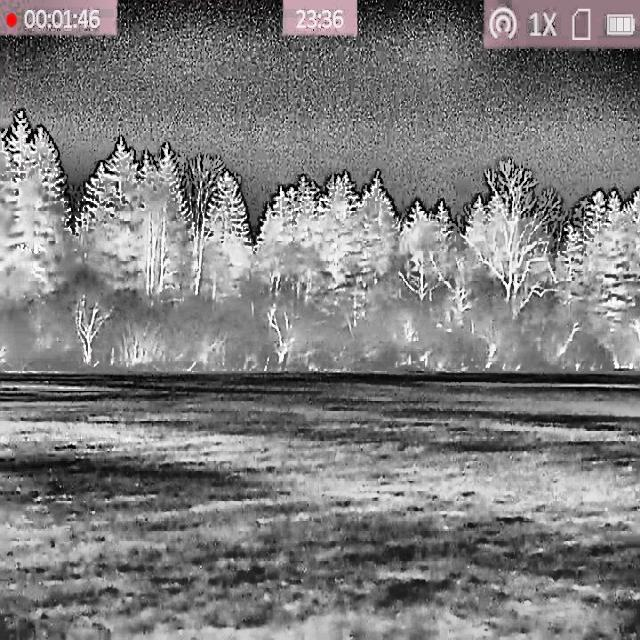drone: (16, 242, 29, 253)
